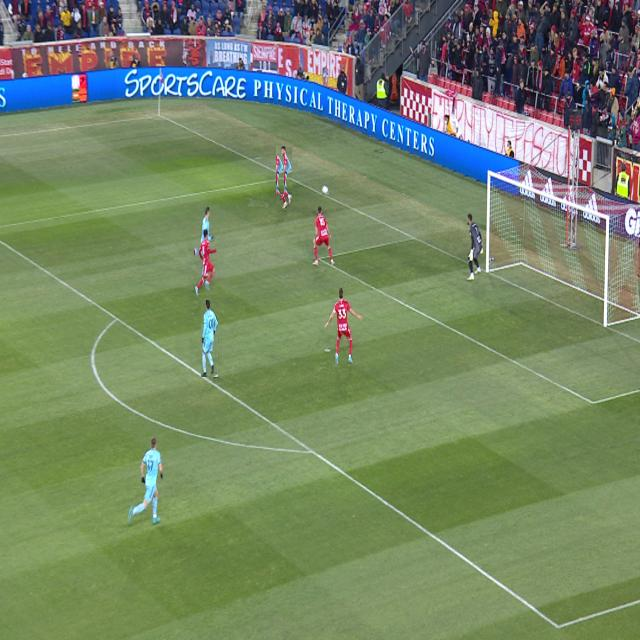football: (322, 186, 329, 195)
goalkeeper: (467, 213, 483, 280)
player: (128, 437, 163, 524), (325, 287, 363, 364), (195, 229, 217, 295), (312, 206, 335, 266), (202, 300, 218, 377), (276, 147, 292, 209), (201, 207, 214, 245), (276, 157, 284, 194), (286, 156, 292, 167), (288, 175, 291, 190), (195, 248, 199, 256), (201, 251, 204, 260), (201, 266, 203, 279)
